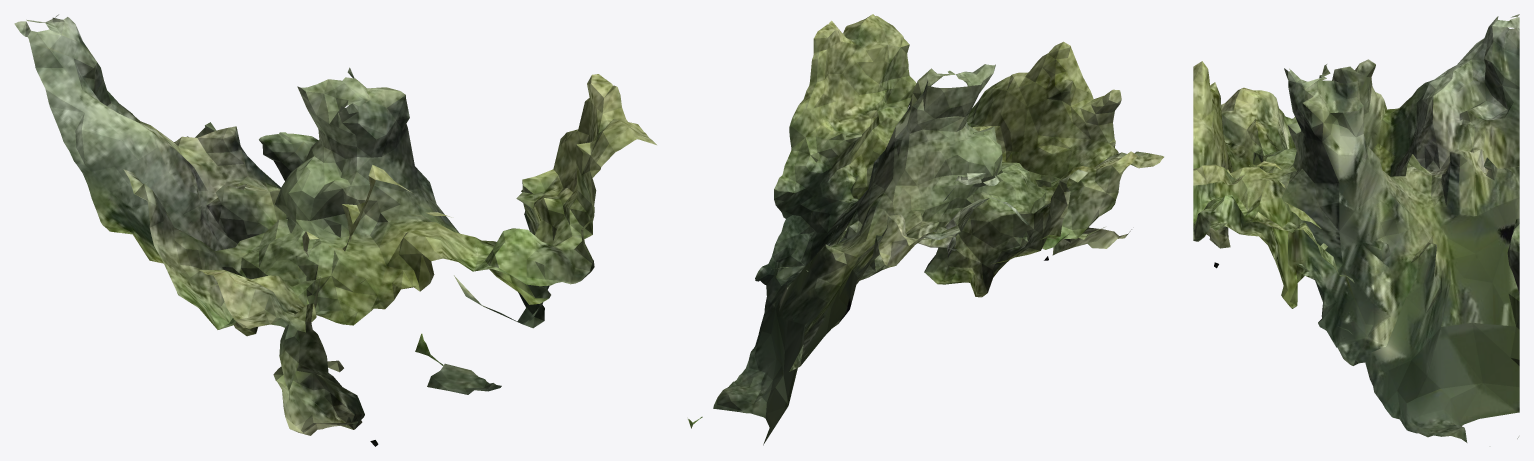
The picture shows the model from 3 angles, left to right: view 1: azimuth 30°, elevation 25°; view 2: azimuth 150°, elevation 25°; view 3: azimuth 270°, elevation 25°; orthographic projection. The views are drawn at different scales.
Size of the model in its own units: 11.8 by 11.8 by 11.8.
5 materials, 5 textured.
